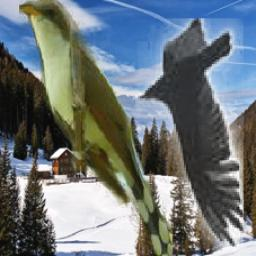Crow: (135, 19, 244, 251)
Cuckoo: (19, 0, 173, 256)
